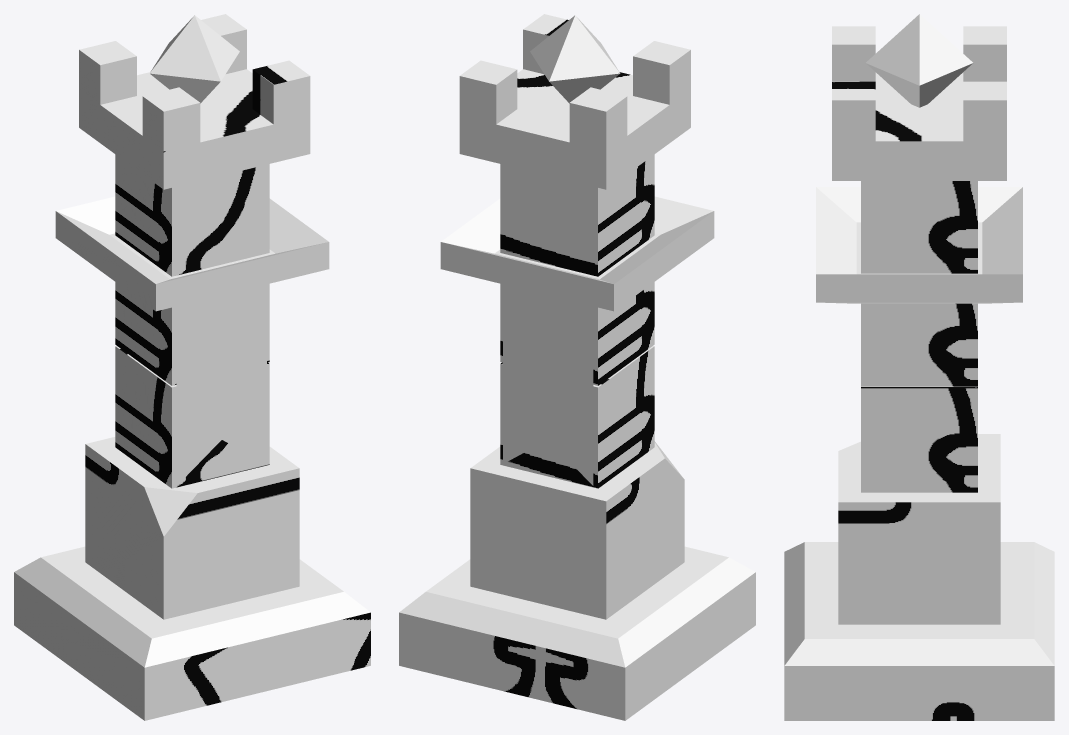
File: Stone King.fbx
3 views of the same model, side by side, from view 1: azimuth 30°, elevation 25°; view 2: azimuth 150°, elevation 25°; view 3: azimuth 270°, elevation 25° (orthographic). The views are drawn at different scales.
Visible parts, largest first — view 1: Stone_King; view 2: Stone_King; view 3: Stone_King.
Part boxes in pixels (x1,y1,x2,y2): Stone_King: (14,14,370,720); Stone_King: (399,14,755,720); Stone_King: (784,14,1054,720).
Bounding box in the file's own units: 1 × 2.66 × 1.
